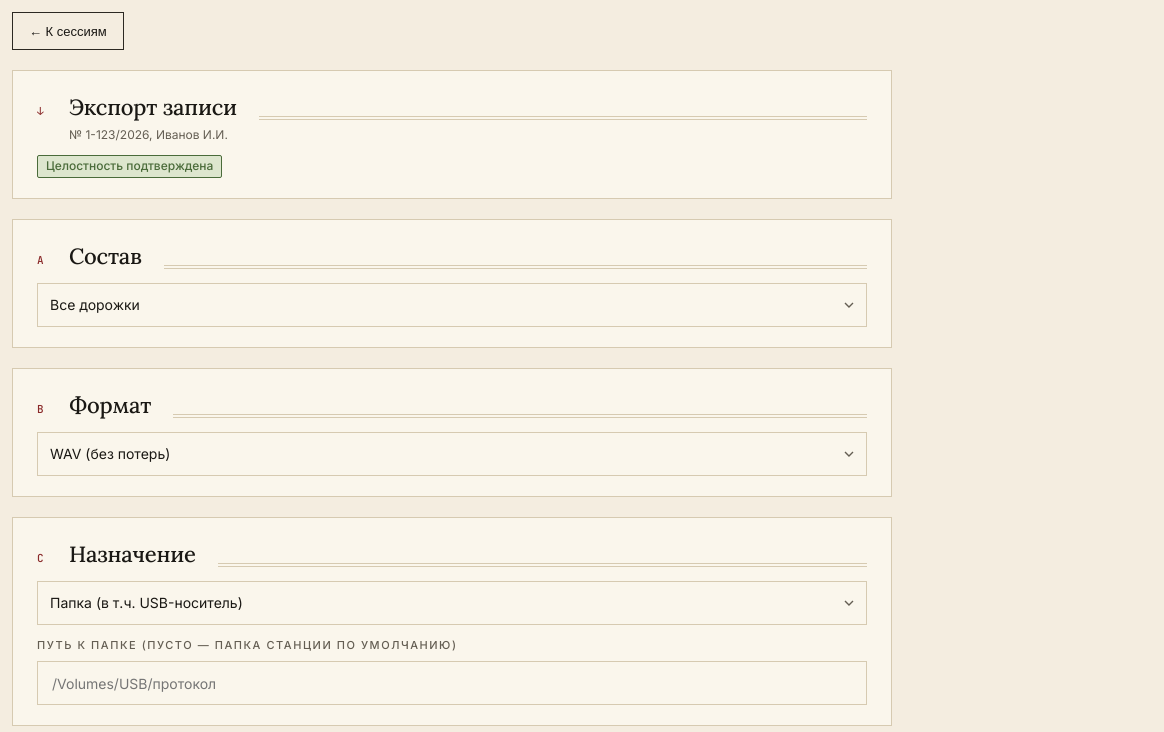
ExportScreen › загружает сессию и показывает дорожки в выборе состава
Click the dropdown named "Состав пакета".
click(95, 305)  # box [37,283,867,327]
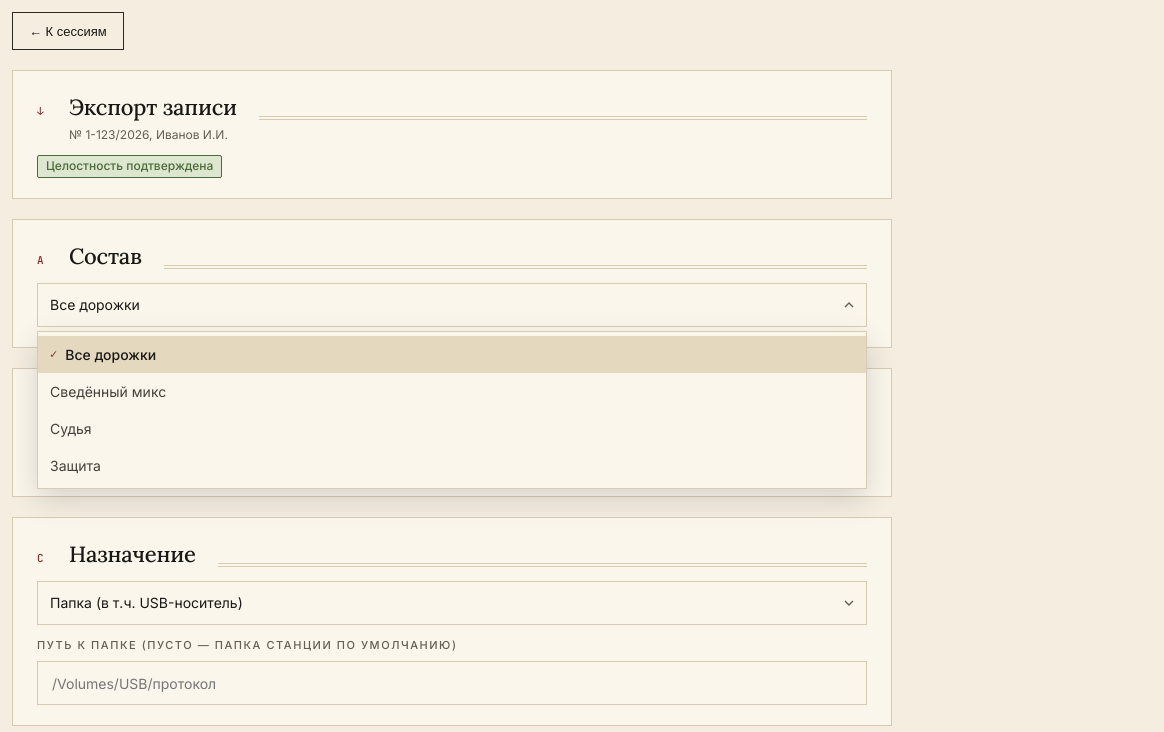
Expected: the 2nd text "Все дорожки" is shown, [65,346,156,363]
Expected: the text "Сведённый микс" is shown, [50,383,166,400]
Expected: the text "Судья" is shown, [50,420,92,437]
